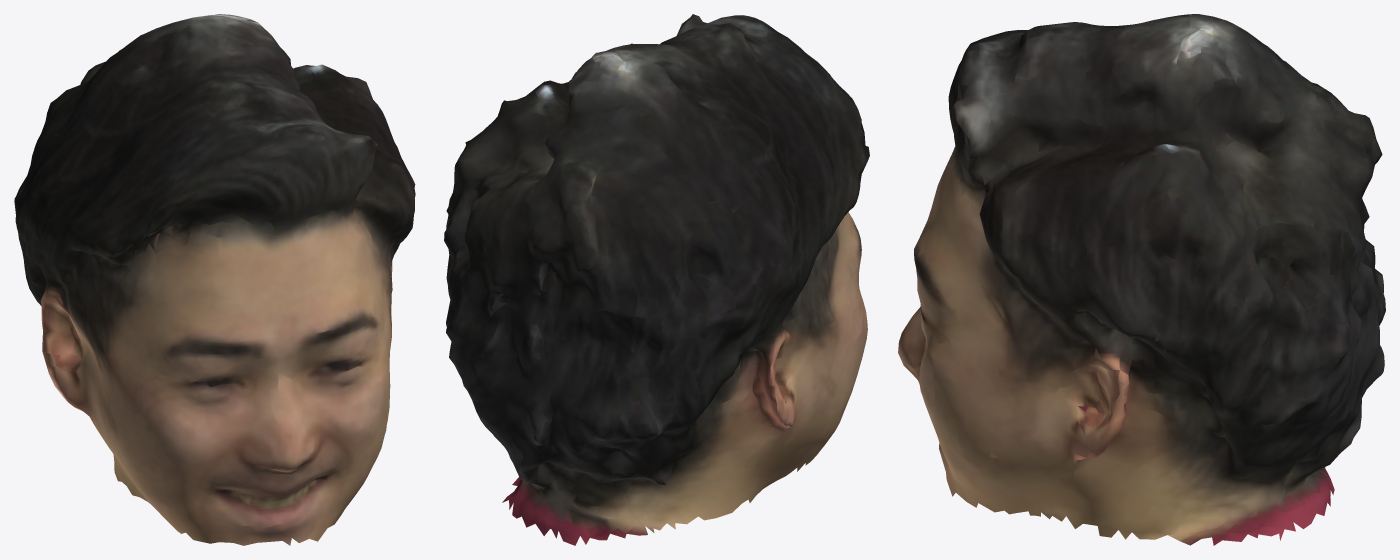
The model's file is toda_cabeza.glb.
The picture shows the model from 3 angles, left to right: view 1: azimuth 30°, elevation 25°; view 2: azimuth 150°, elevation 25°; view 3: azimuth 270°, elevation 25°; orthographic projection. The views are drawn at different scales.
Parts seen in each view (by area): view 1: cabeza; view 2: cabeza; view 3: cabeza.
Boxes of the visible parts, bbox=[...] form: cabeza: bbox=[14, 14, 415, 545]; cabeza: bbox=[444, 14, 869, 545]; cabeza: bbox=[898, 14, 1385, 545].
Size of the model in its own units: 2.05 by 2.54 by 2.38.
1 material, 1 textured.
